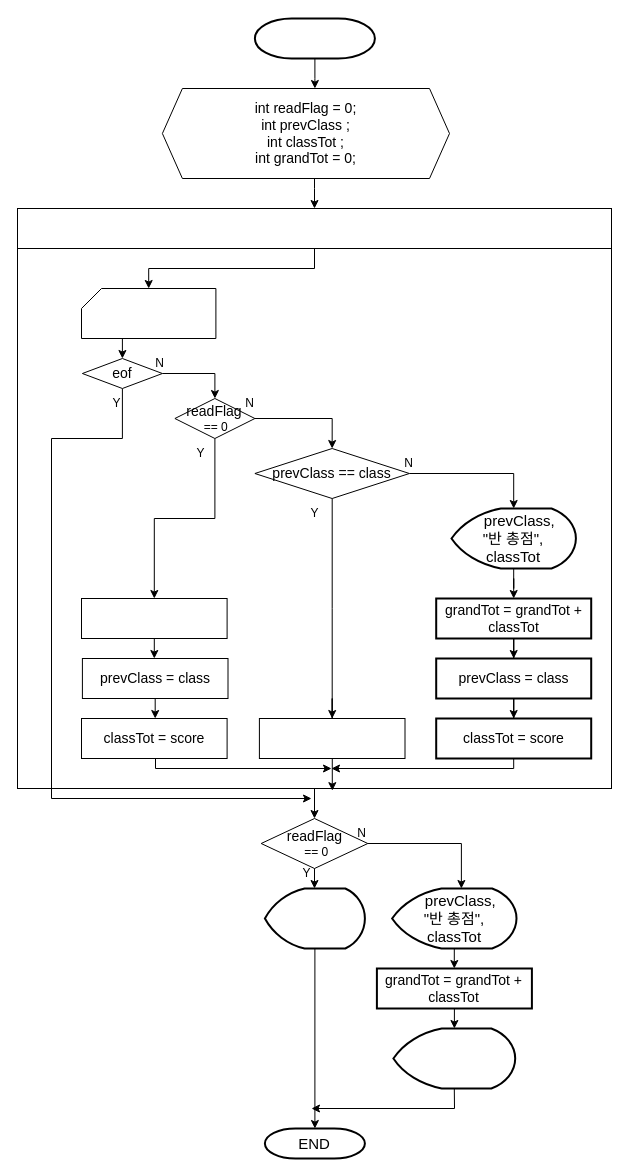
Some shapes in this 629 by 1176 pixel diagram are drawn without their labels. The shapes that lost their labels are listed below. From the top down, each one's centre as x and y in pixels, then its label:
pixel 314 38: START
pixel 314 228: TRUE
pixel 148 313: class , seq , score
pixel 153 618: readFlag = 1
pixel 331 738: classTot = classTot + score
pixel 314 918: "파일에 데이터가 없음"
pixel 454 1058: "전체 총점", grandTot
